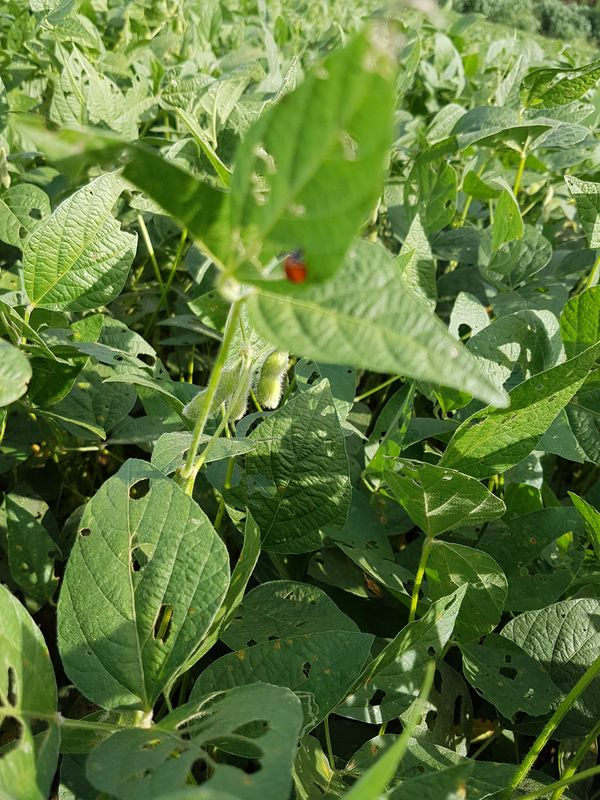Coccinellidae: (271, 242, 321, 289)
